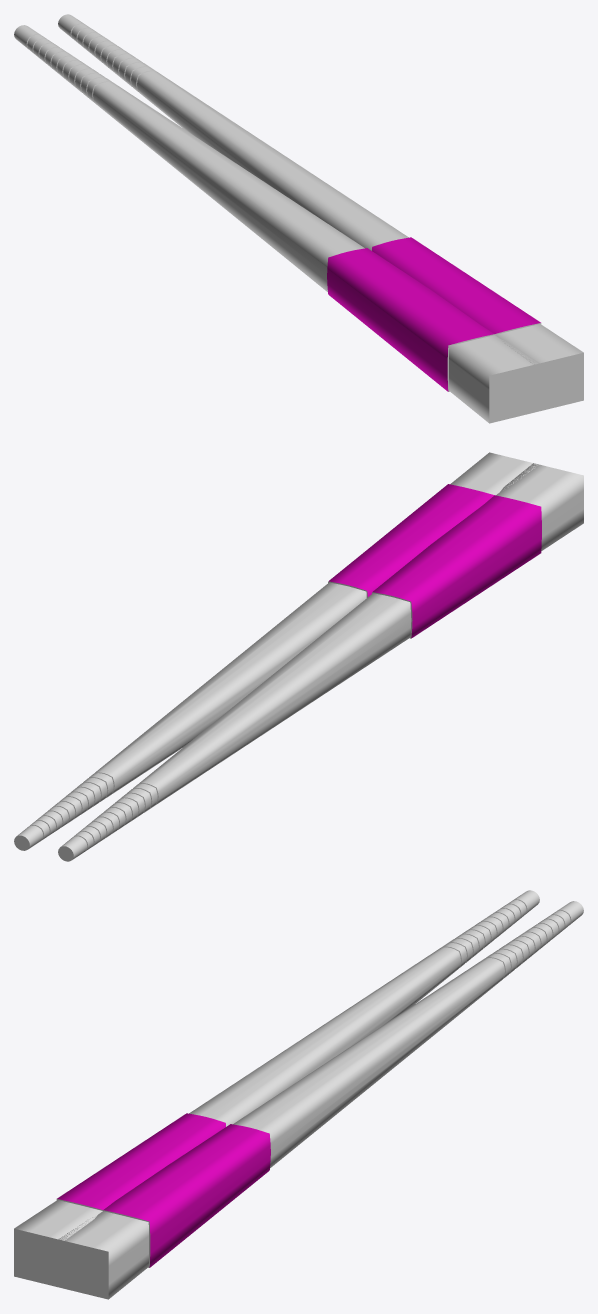
File: palillos.fbx
The picture shows the model from 3 angles, top to bottom: view 1: azimuth 30°, elevation 25°; view 2: azimuth 150°, elevation 25°; view 3: azimuth 330°, elevation 25°; orthographic projection.
Visible parts, largest first — view 1: EXP_Palillos; view 2: EXP_Palillos; view 3: EXP_Palillos.
Boxes of the visible parts, x1,y1,x2,y2 form: EXP_Palillos: [14, 14, 583, 423]; EXP_Palillos: [14, 452, 583, 861]; EXP_Palillos: [14, 890, 583, 1299].
Bounding box in the file's own units: 0.0809 × 0.0391 × 0.7297.
